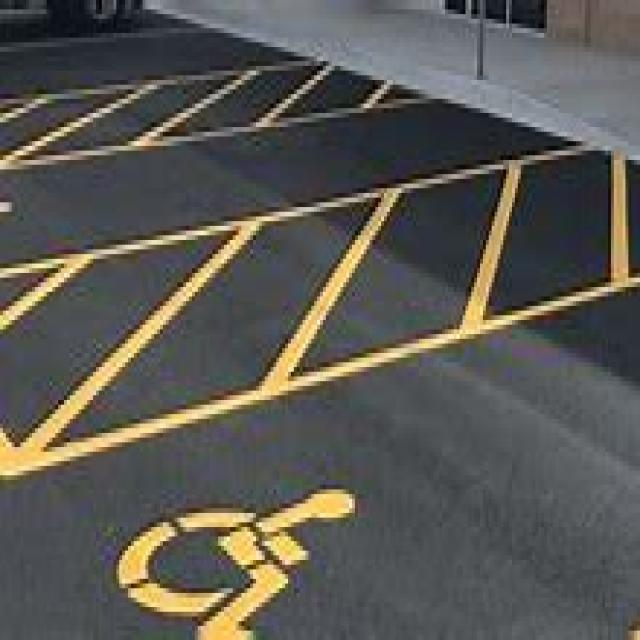car-handicap-placard: (115, 484, 360, 640)
